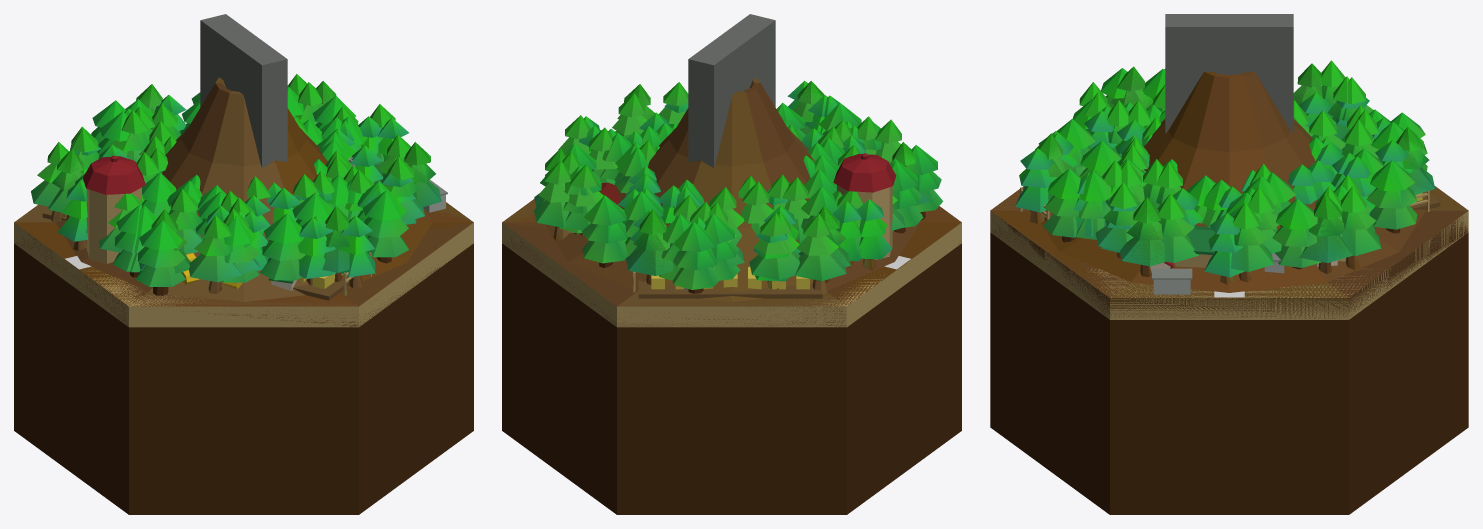
File: models.glb
The picture shows the model from 3 angles, left to right: view 1: azimuth 30°, elevation 25°; view 2: azimuth 150°, elevation 25°; view 3: azimuth 270°, elevation 25°; orthographic projection. The views are drawn at different scales.
Parts seen in each view (by area): view 1: wasteland, trees, volcano, monument, floor, farm, monument_tree.001; view 2: wasteland, trees, volcano, monument, floor, farm, monument_tree.001; view 3: wasteland, trees, volcano, monument, floor, monument_tree.001, farm, mine, mine_office2.001.
Boxes of the visible parts, x1,y1,x2,y2 form: wasteland: [14, 202, 473, 514]; trees: [31, 74, 424, 295]; volcano: [14, 77, 473, 306]; monument: [52, 14, 441, 281]; floor: [14, 222, 473, 327]; farm: [42, 155, 383, 300]; monument_tree.001: [48, 82, 440, 280]; wasteland: [502, 199, 961, 514]; trees: [534, 80, 943, 293]; volcano: [503, 77, 961, 306]; monument: [534, 14, 929, 284]; floor: [502, 222, 961, 327]; farm: [567, 153, 896, 298]; monument_tree.001: [535, 81, 915, 282]; wasteland: [990, 186, 1468, 514]; trees: [1015, 60, 1427, 284]; volcano: [991, 72, 1467, 297]; monument: [1024, 14, 1435, 297]; floor: [990, 211, 1468, 319]; monument_tree.001: [1048, 67, 1434, 276]; farm: [1018, 148, 1440, 267]; mine: [1152, 223, 1284, 294]; mine_office2.001: [1153, 276, 1190, 294].
Size of the model in its own units: 1.73 by 1.88 by 2.
